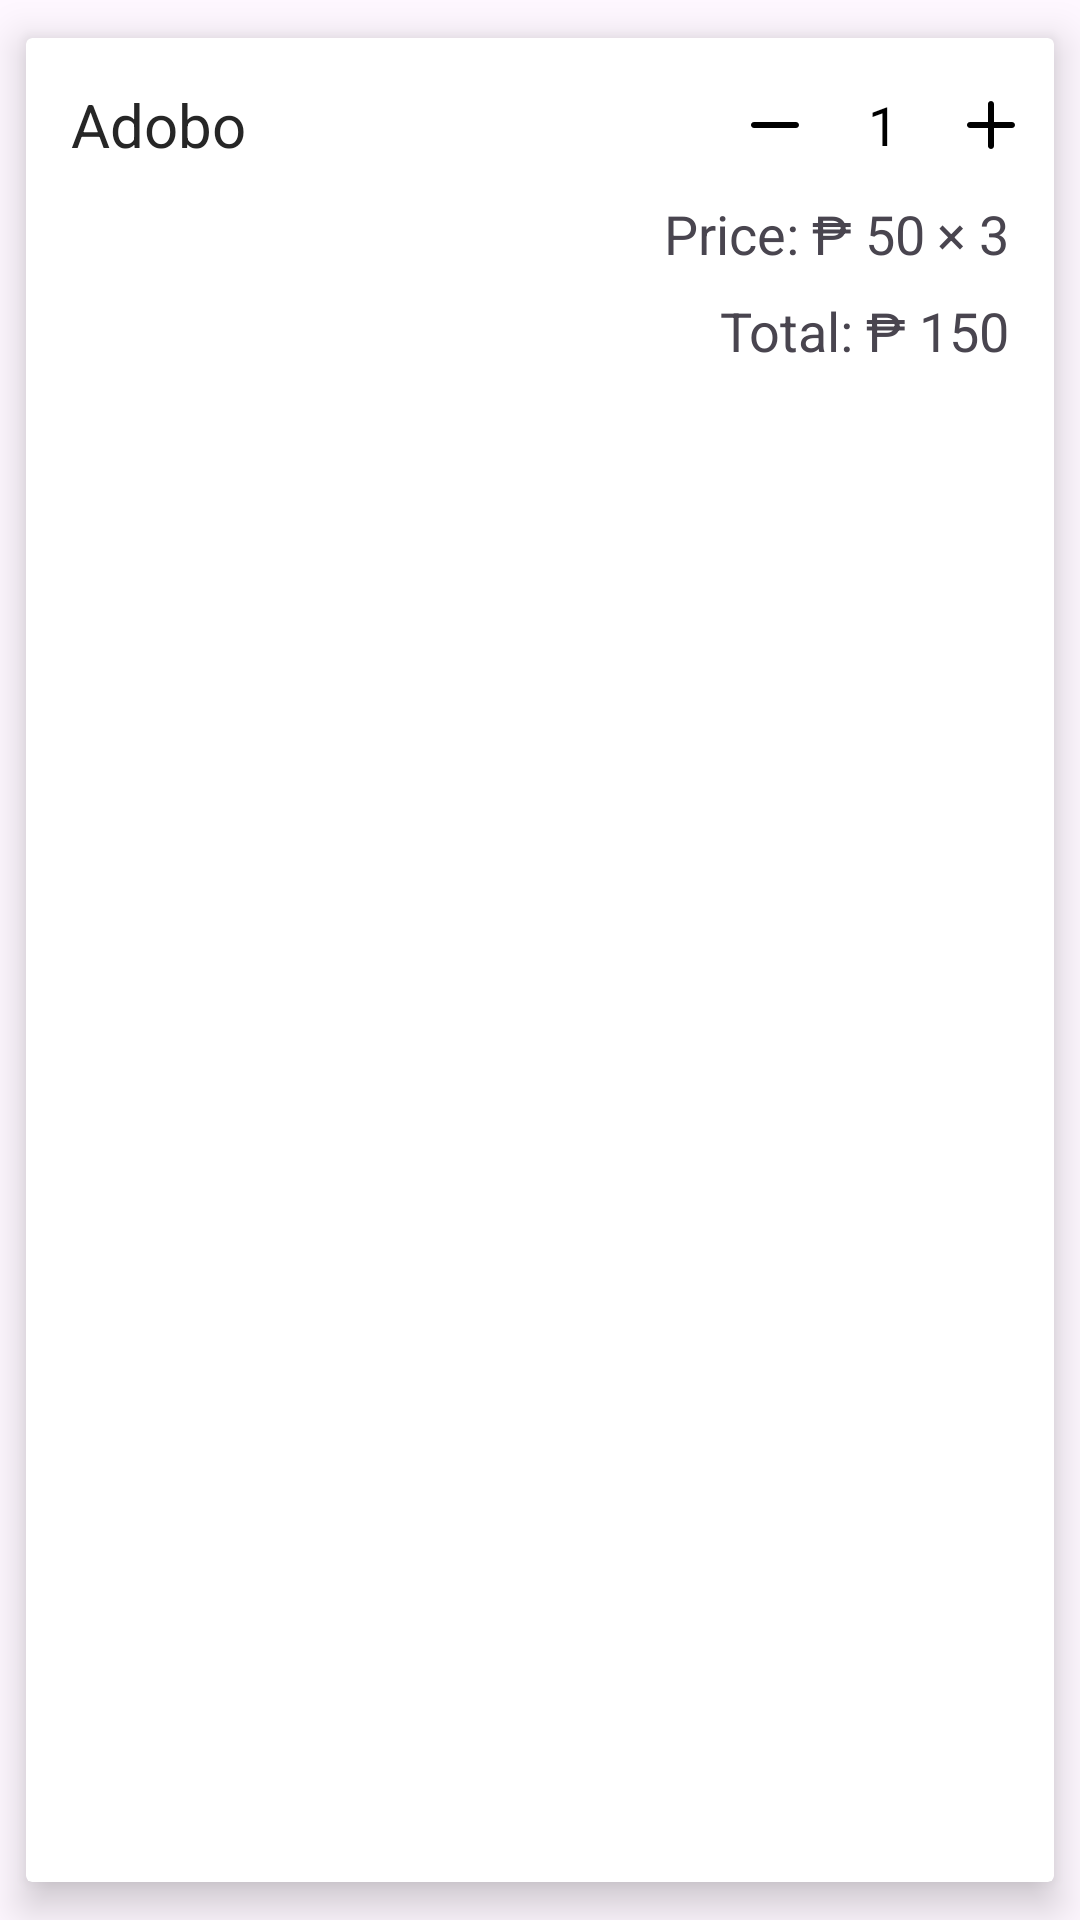

Screen size 1080 × 1920. Icon name, then its center in pixels as (x=x, y=y):
Increment: (x=991, y=125)
